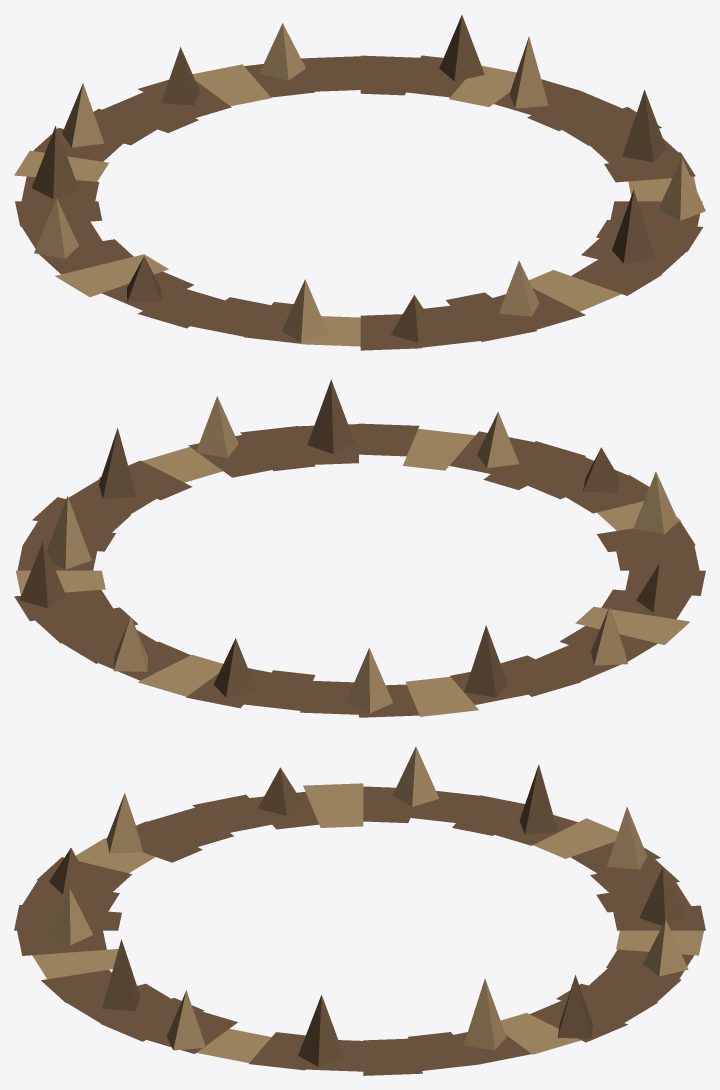
The model's file is earth_quake.glb.
3 views of the same model, one above another, from view 1: azimuth 30°, elevation 25°; view 2: azimuth 150°, elevation 25°; view 3: azimuth 270°, elevation 25° (orthographic).
Visible parts, largest first — view 1: earth_quake; view 2: earth_quake; view 3: earth_quake.
Part boxes in pixels (<box>): earth_quake: <box>14,15,705,350</box>; earth_quake: <box>14,379,705,717</box>; earth_quake: <box>14,746,705,1075</box>.
Size of the model in its own units: 2.04 by 0.2087 by 2.04.
1 material, 1 textured.
